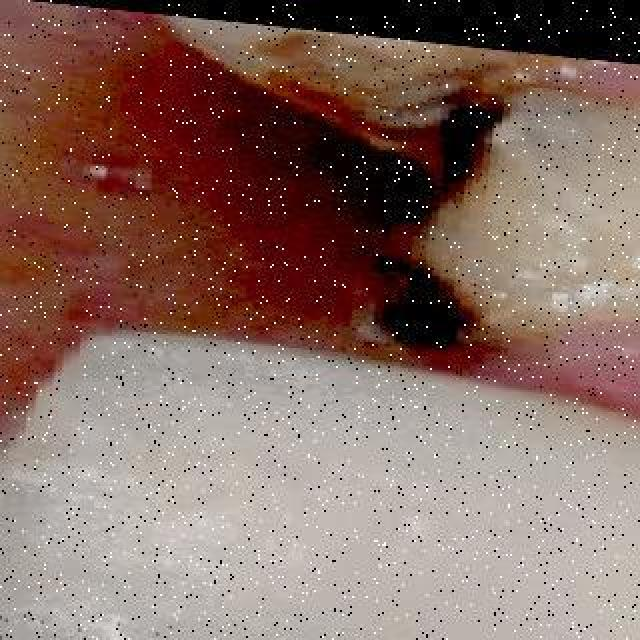cavities: (225, 36, 587, 440), (28, 552, 438, 640)
